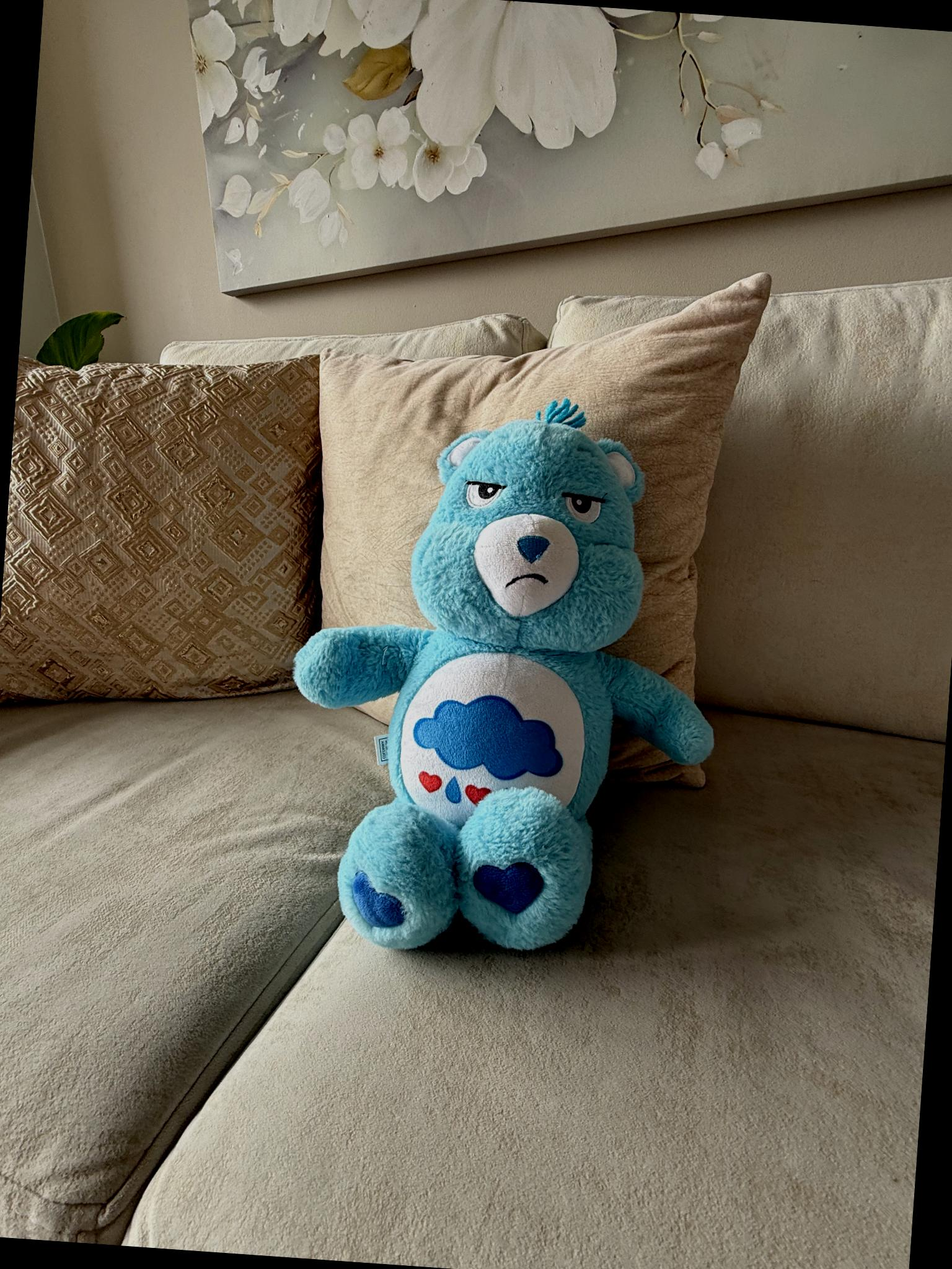peluche_Juan Jose: (275, 381, 737, 973)
